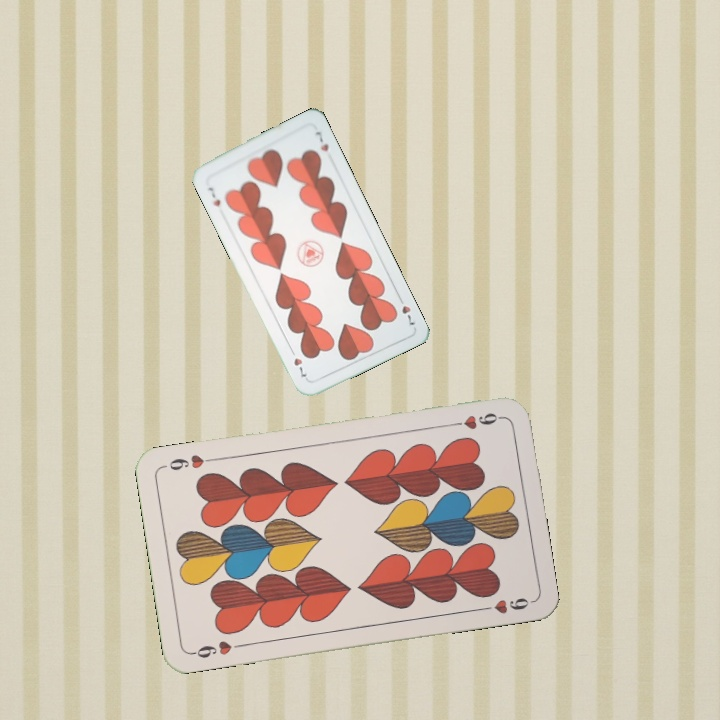H7: (394, 292, 418, 328), (204, 183, 223, 209)
H9: (187, 637, 246, 661), (446, 408, 505, 432)
